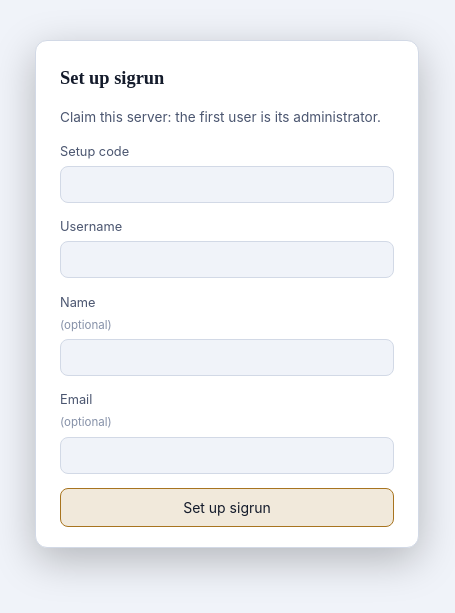
Scenario: AuthGate › an unusable username shows an inline message and disables submit
Type "@@@" into the field labelled "Username".
click(227, 260); type("@@@")  # box left=60, top=241, right=394, bottom=278
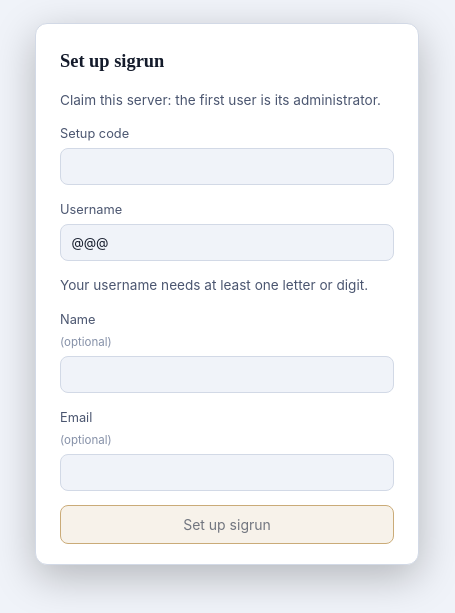
Expected: the text "needs at least one letter or digit" is shown, left=60, top=277, right=368, bottom=293
Expected: the button "Set up sigrun" is disabled, left=60, top=506, right=394, bottom=544
